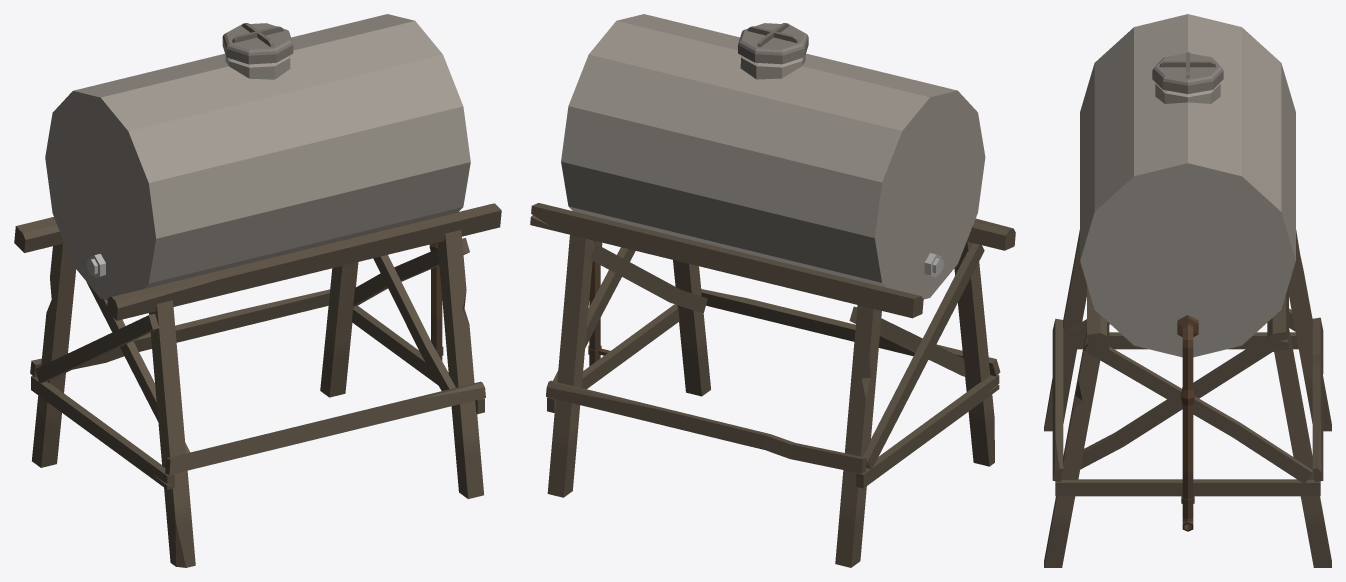
The model's file is SM_Props_Farm_FuelTank.fbx.
3 renders of one model, left to right at view 1: azimuth 30°, elevation 25°; view 2: azimuth 150°, elevation 25°; view 3: azimuth 270°, elevation 25°, orthographic. The views are drawn at different scales.
Parts seen in each view (by area): view 1: SM_Props_Farm_FuelTank; view 2: SM_Props_Farm_FuelTank; view 3: SM_Props_Farm_FuelTank.
Boxes of the visible parts, box(x1,y1,x2,y2) form: SM_Props_Farm_FuelTank: box(14, 14, 501, 567); SM_Props_Farm_FuelTank: box(530, 14, 1015, 567); SM_Props_Farm_FuelTank: box(1044, 14, 1331, 567).
Bounding box in the file's own units: 479 × 532 × 320.
